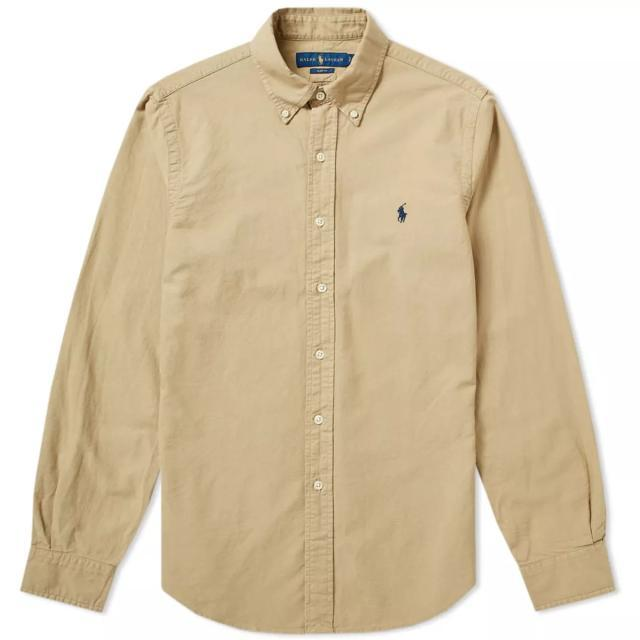long sleeve shirt: (19, 7, 617, 637)
